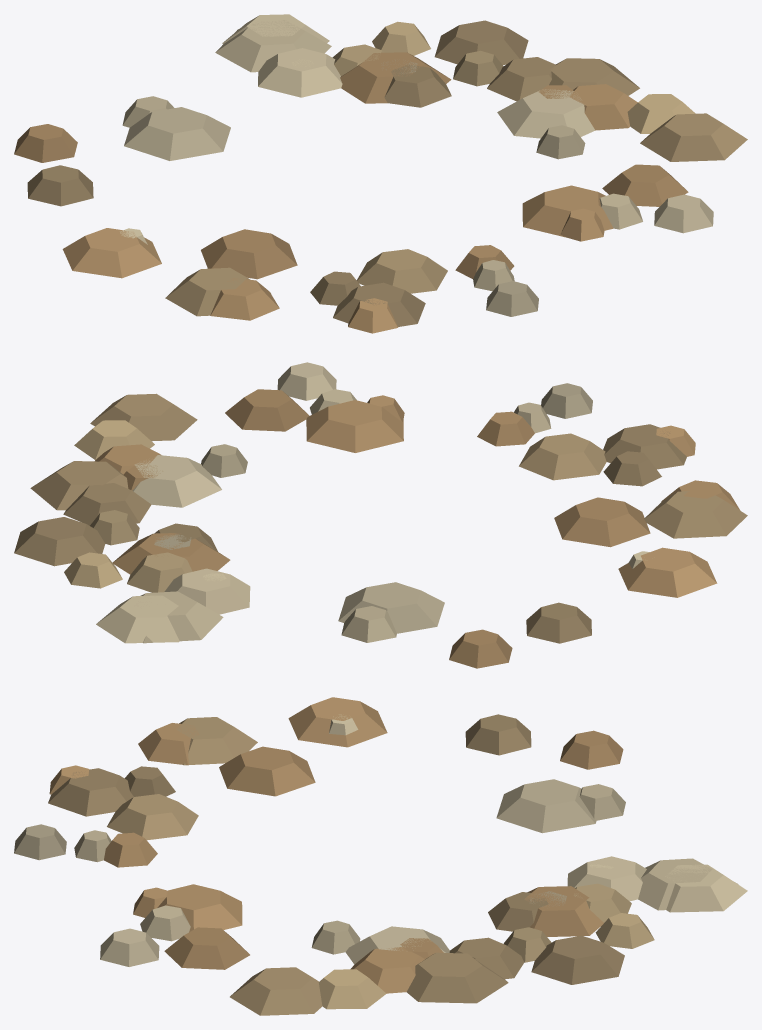
File: dam_survey_benchmark_detail2.glb
3 views of the same model, one above another, from view 1: azimuth 30°, elevation 25°; view 2: azimuth 150°, elevation 25°; view 3: azimuth 270°, elevation 25° (orthographic).
Parts seen in each view (by area): view 1: dam_survey_benchmark_detail2; view 2: dam_survey_benchmark_detail2; view 3: dam_survey_benchmark_detail2.
Part boxes in pixels (x1=…): dam_survey_benchmark_detail2: x1=14, y1=14, x2=747, y2=333; dam_survey_benchmark_detail2: x1=14, y1=362, x2=747, y2=668; dam_survey_benchmark_detail2: x1=14, y1=697, x2=747, y2=1015.
Bounding box in the file's own units: 4.05 × 0.1 × 4.03.
